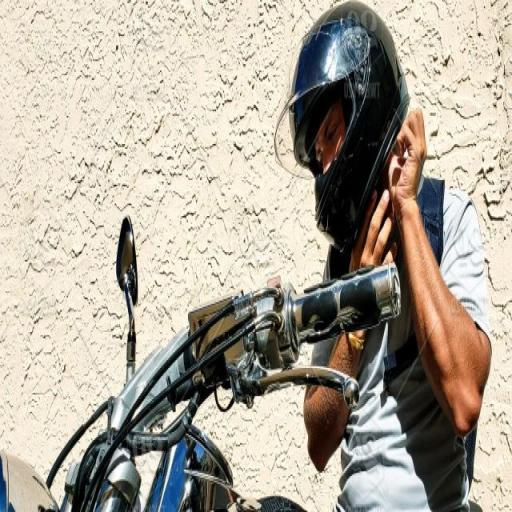Helmet: (285, 17, 429, 254)
Motor: (52, 238, 400, 512)
